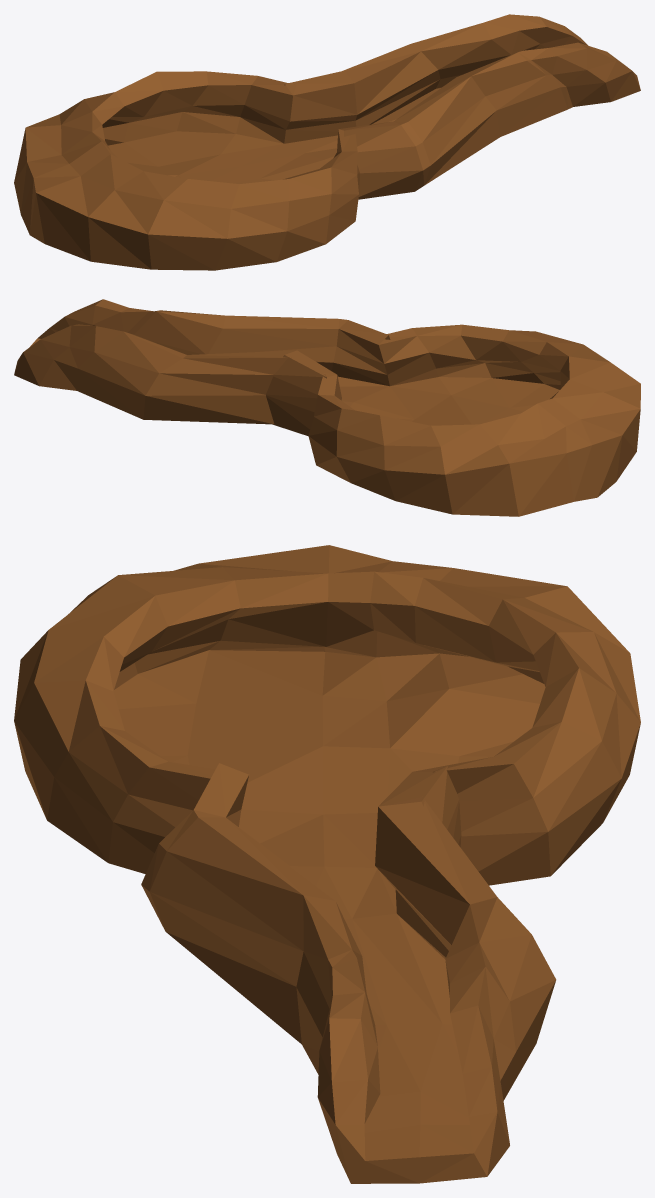
File: cave_1.fbx
3 renders of one model, top to bottom at view 1: azimuth 30°, elevation 25°; view 2: azimuth 150°, elevation 25°; view 3: azimuth 270°, elevation 25°, orthographic. The views are drawn at different scales.
Visible parts, largest first — view 1: Plane.009; view 2: Plane.009; view 3: Plane.009.
Boxes of the visible parts, x1,y1,x2,y2 form: Plane.009: [14, 14, 640, 270]; Plane.009: [14, 299, 640, 516]; Plane.009: [14, 545, 640, 1183].
Size of the model in its own units: 20169 by 2582 by 9808.
